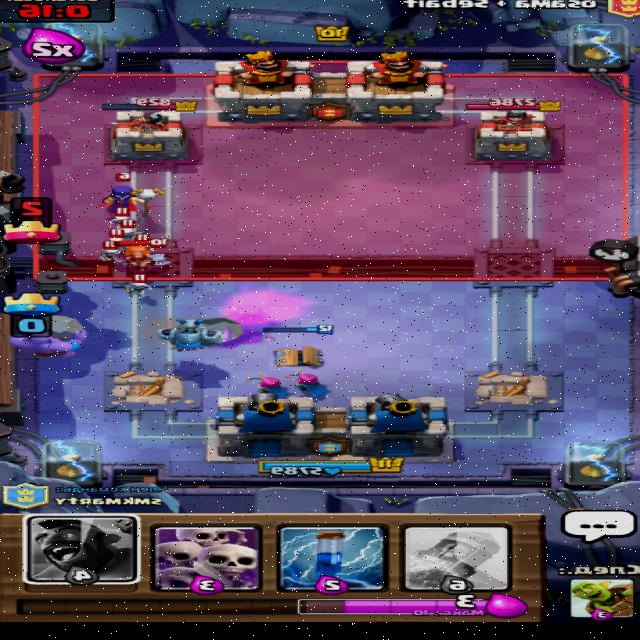Enemy-Skeleton: (126, 273, 157, 298), (101, 238, 125, 263), (110, 206, 134, 227), (122, 218, 148, 237), (134, 233, 156, 253), (110, 227, 128, 242)
Enemy-Witch: (98, 172, 169, 218)
Player-Archer: (284, 369, 335, 398), (245, 373, 297, 398)
Player-MegaMinion: (156, 317, 226, 351)
Player-Tesla-Hidden: (260, 322, 340, 368)
